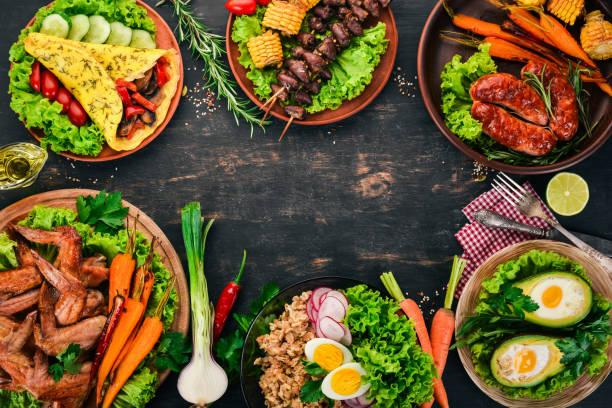Braised Crucian Carp: (2, 191, 190, 407), (418, 2, 610, 173), (13, 1, 184, 161), (454, 240, 610, 405), (226, 3, 394, 128), (240, 276, 393, 407)
